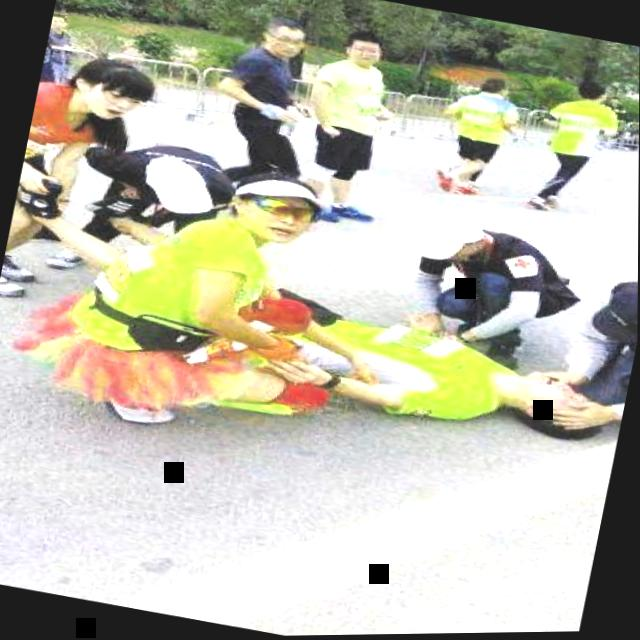Fall-Detected: (227, 274, 627, 465)
